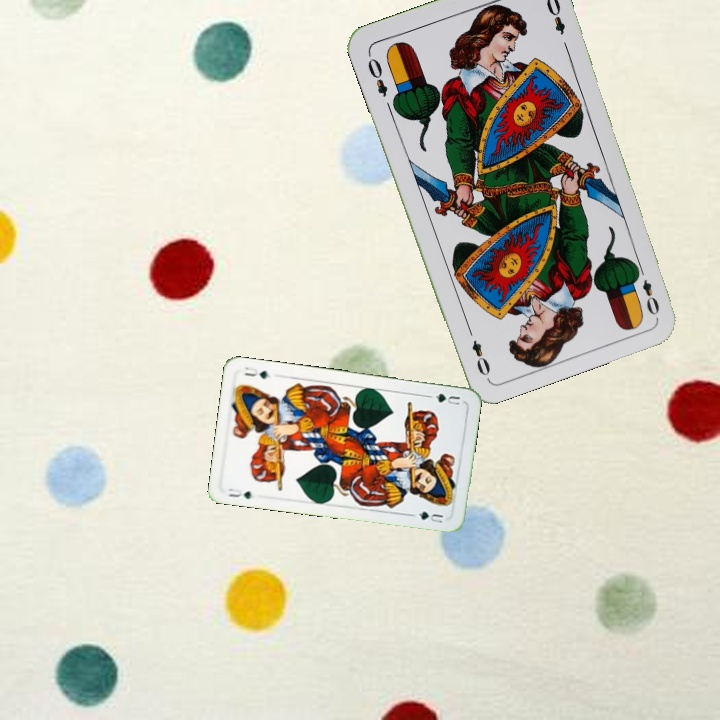EO: (632, 261, 662, 318), (363, 54, 391, 100)
GU: (431, 389, 463, 408), (225, 484, 254, 501)
